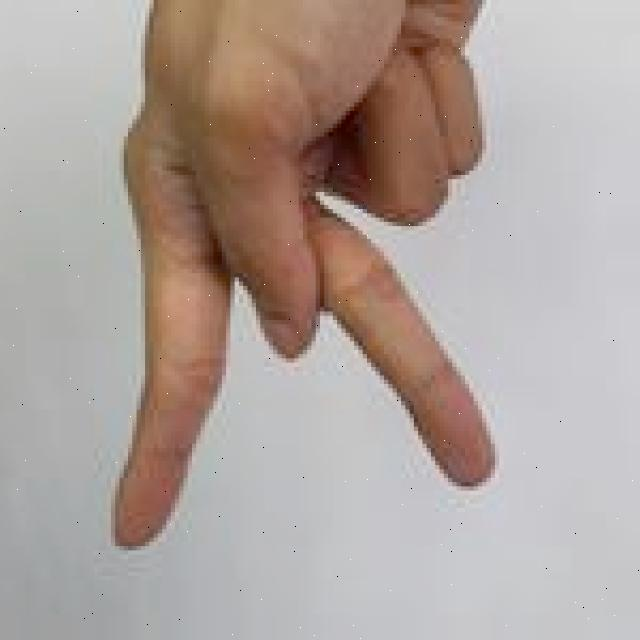P: (107, 0, 516, 550)
